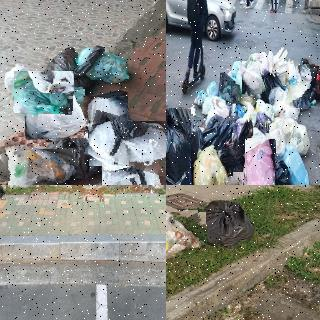Garbage: (86, 115, 166, 172), (98, 125, 157, 185), (24, 88, 86, 139), (0, 144, 76, 185), (38, 131, 104, 177), (199, 199, 257, 248), (14, 70, 74, 114), (166, 210, 207, 263), (166, 108, 193, 185), (76, 47, 131, 84), (82, 94, 130, 130), (192, 146, 233, 185), (244, 138, 275, 185), (287, 63, 314, 109), (282, 146, 309, 185), (3, 64, 37, 90), (240, 60, 265, 95), (295, 55, 319, 90), (229, 170, 276, 185), (0, 185, 6, 200)
